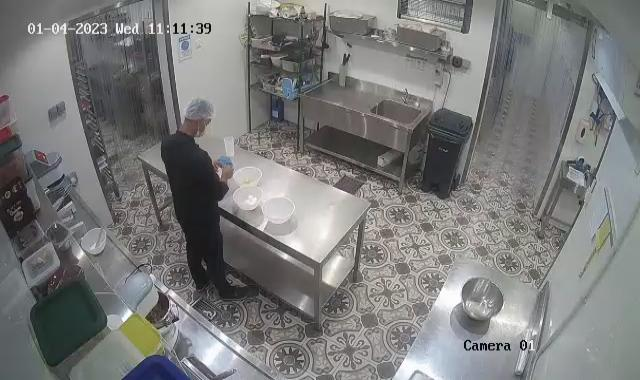hairnet: (182, 95, 214, 129)
